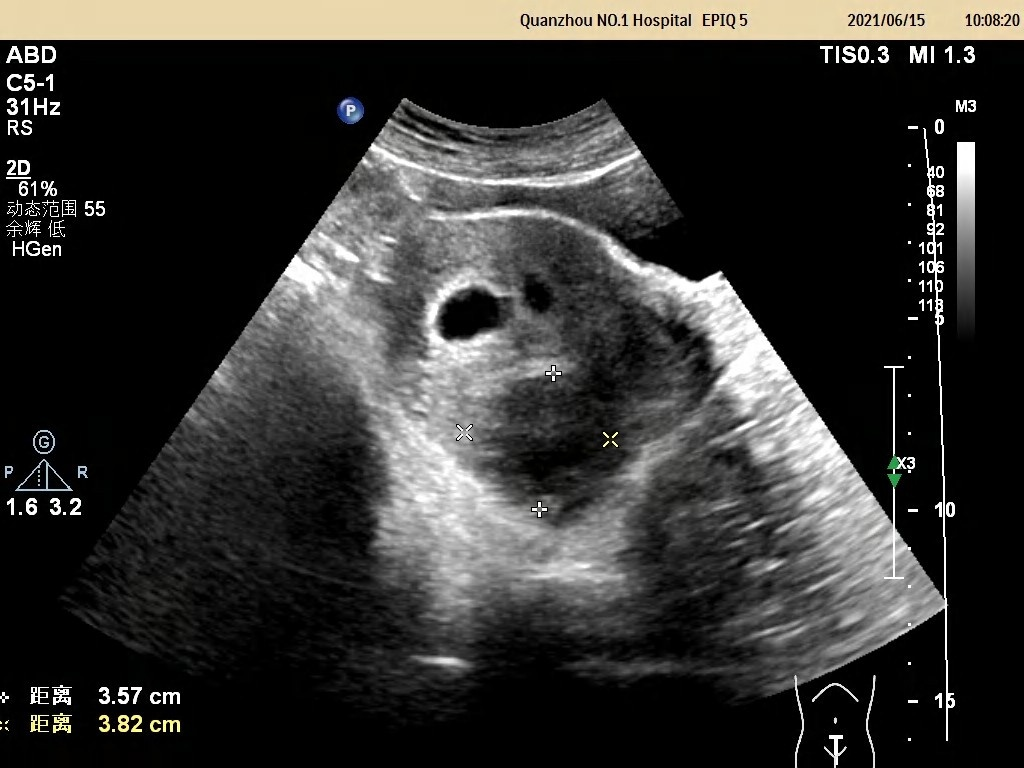肌瘤: (470, 383, 615, 501)
